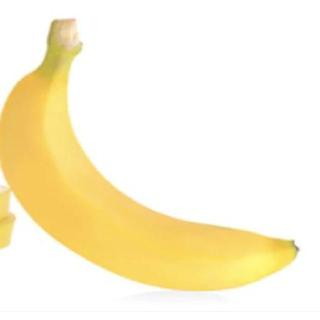banana: (0, 69, 302, 293)
